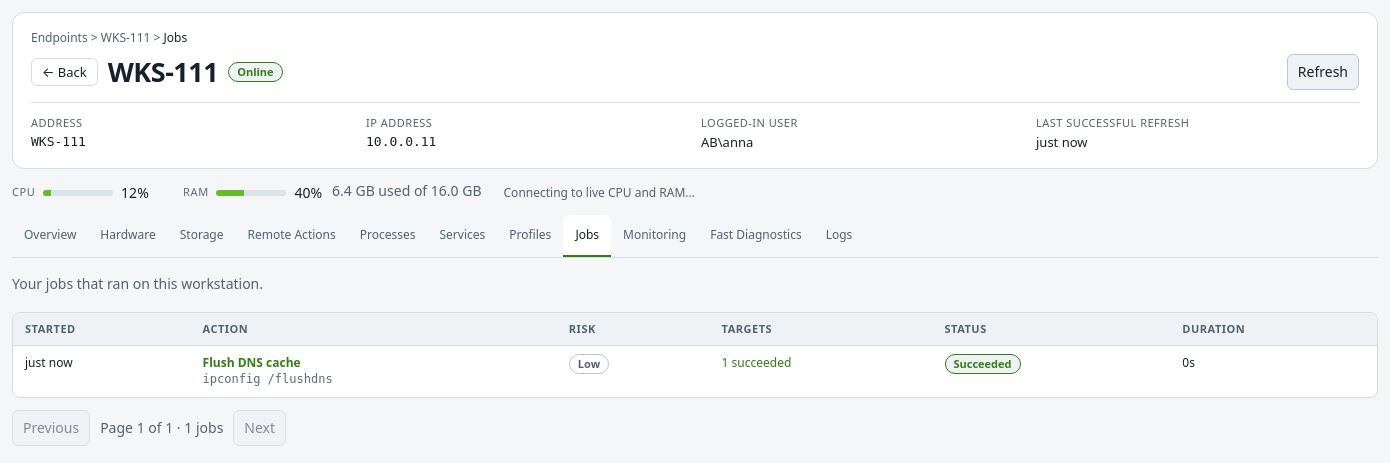
Test: job navigation › the Jobs tab links open the job under the workstation and Back returns to the workstation
Click the link "Flush DNS cache" at (252, 363), box [203,354,301,371]
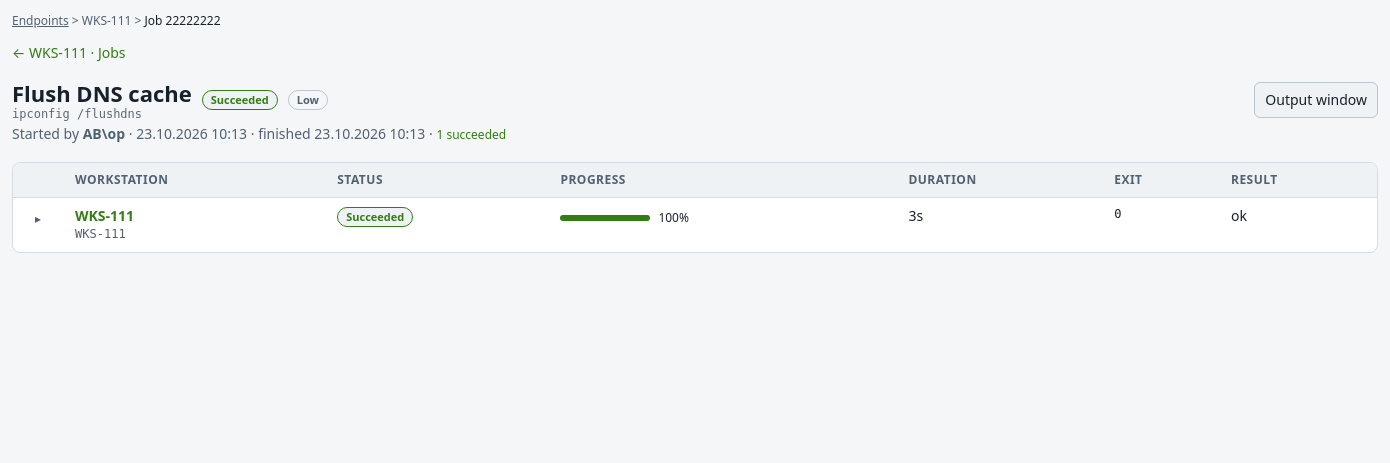
Click the link with test id "job-back" at (20, 53), box [12,43,126,62]
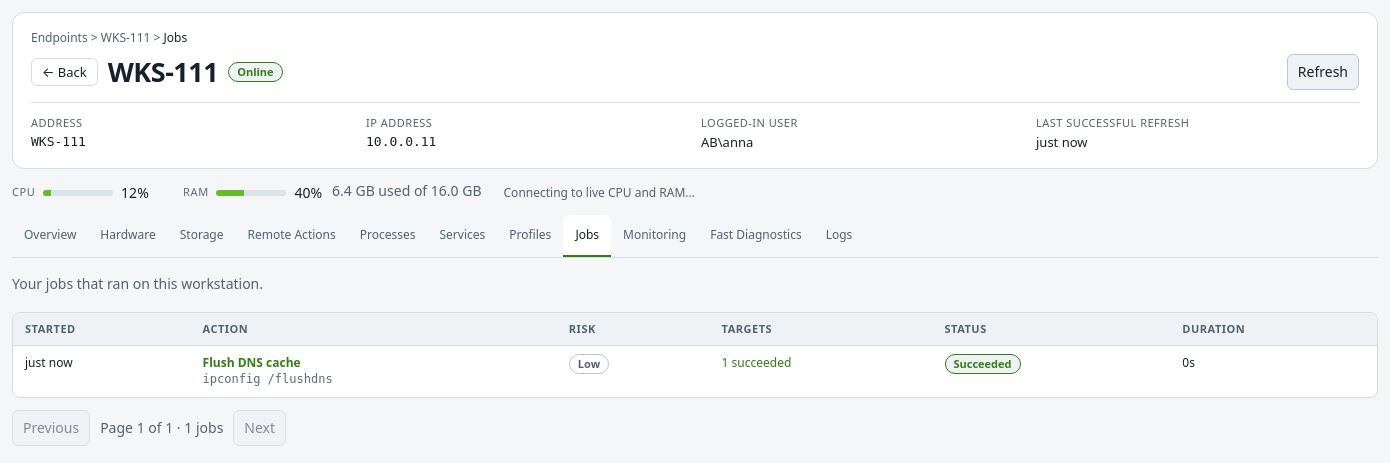
Expected: the heading "WKS-111" is shown, [108,52,218,92]
